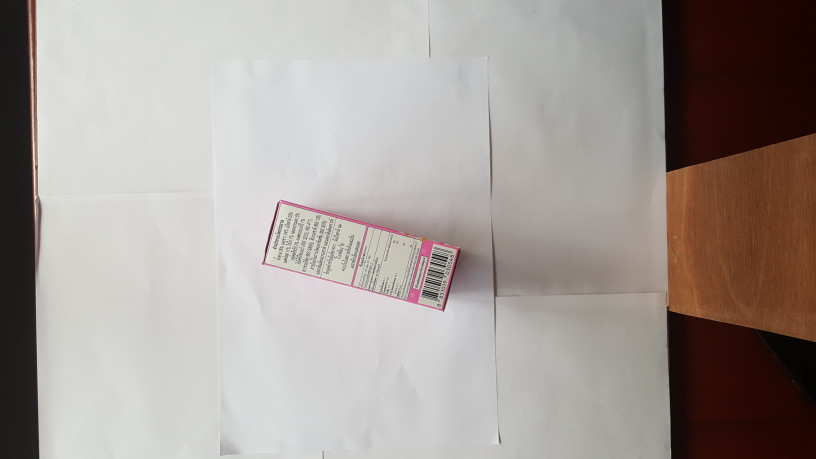collon-strawberry: (261, 201, 462, 312)
